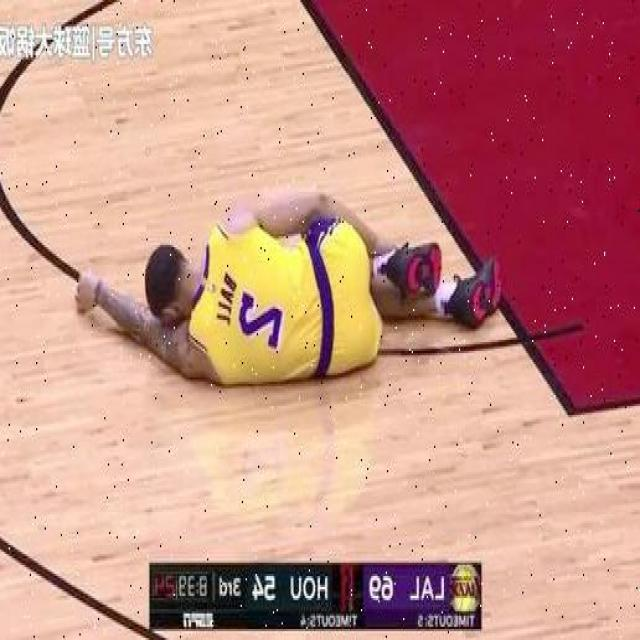fall: (80, 183, 488, 382)
